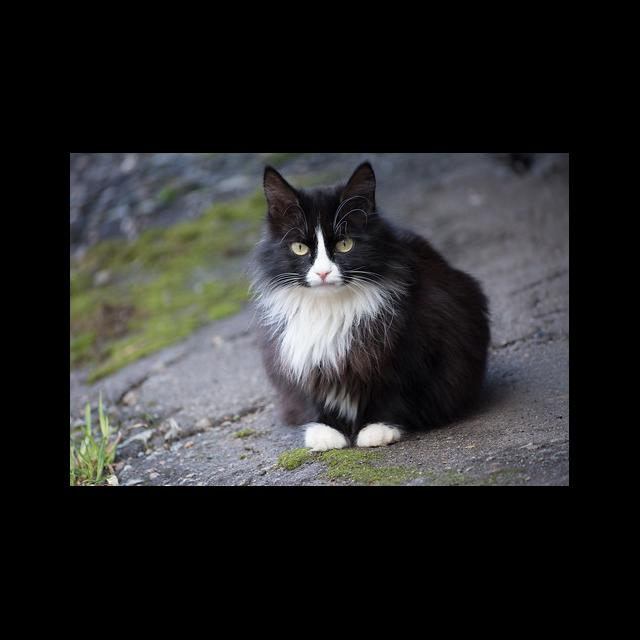animals: (256, 161, 489, 452)
